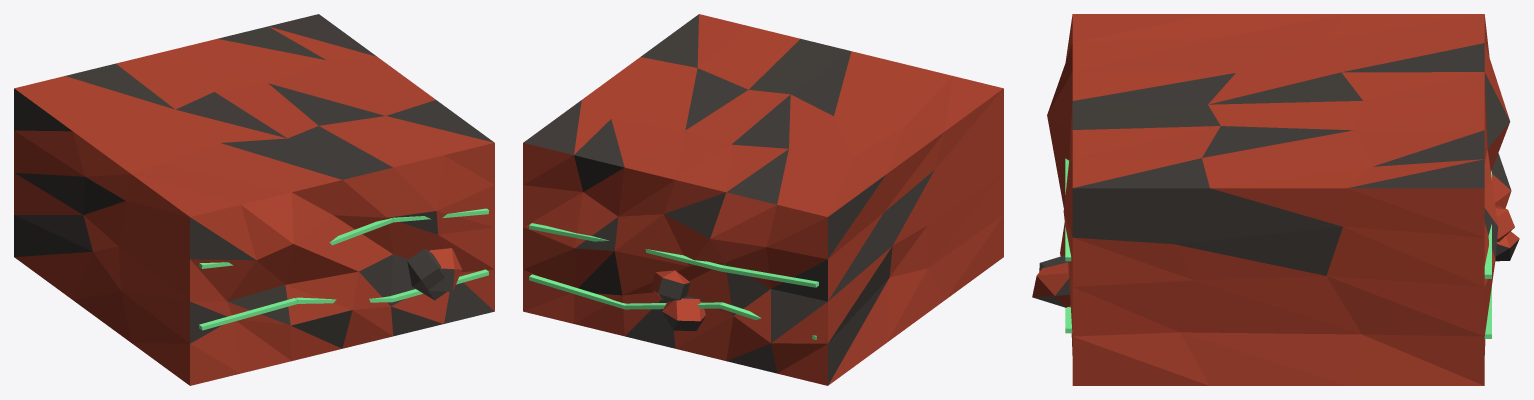
Rendered from Kit_Rock_SourceChamber.fbx.
The picture shows the model from 3 angles, left to right: view 1: azimuth 30°, elevation 25°; view 2: azimuth 150°, elevation 25°; view 3: azimuth 270°, elevation 25°; orthographic projection. The views are drawn at different scales.
Visible parts, largest first — view 1: Rock, DecorNeon, Decor; view 2: Rock, DecorNeon, Decor; view 3: Rock, Decor, DecorNeon.
Boxes of the visible parts, x1=… form: Rock: x1=14, y1=14, x2=494, y2=385; DecorNeon: x1=199, y1=208, x2=489, y2=330; Decor: x1=407, y1=248, x2=462, y2=300; Rock: x1=523, y1=14, x2=1003, y2=385; DecorNeon: x1=529, y1=223, x2=818, y2=339; Decor: x1=651, y1=270, x2=705, y2=331; Rock: x1=1047, y1=14, x2=1511, y2=385; Decor: x1=1032, y1=205, x2=1519, y2=307; DecorNeon: x1=1065, y1=158, x2=1491, y2=338.
Bounding box in the file's own units: 34 × 18 × 40.23.
